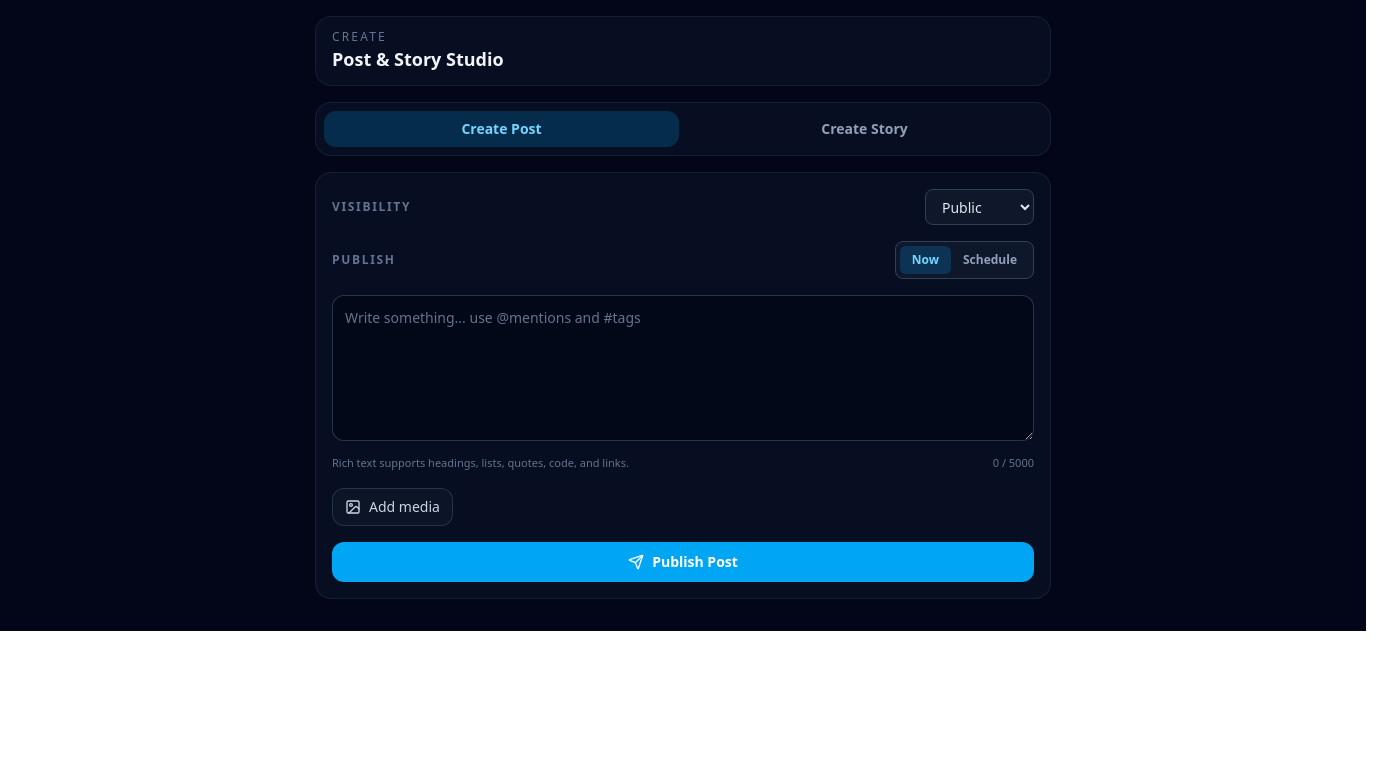
CreatePostPage › validates missing story media before sharing
Click the button "Create Story": x=864, y=129 [687,111,1042,147]
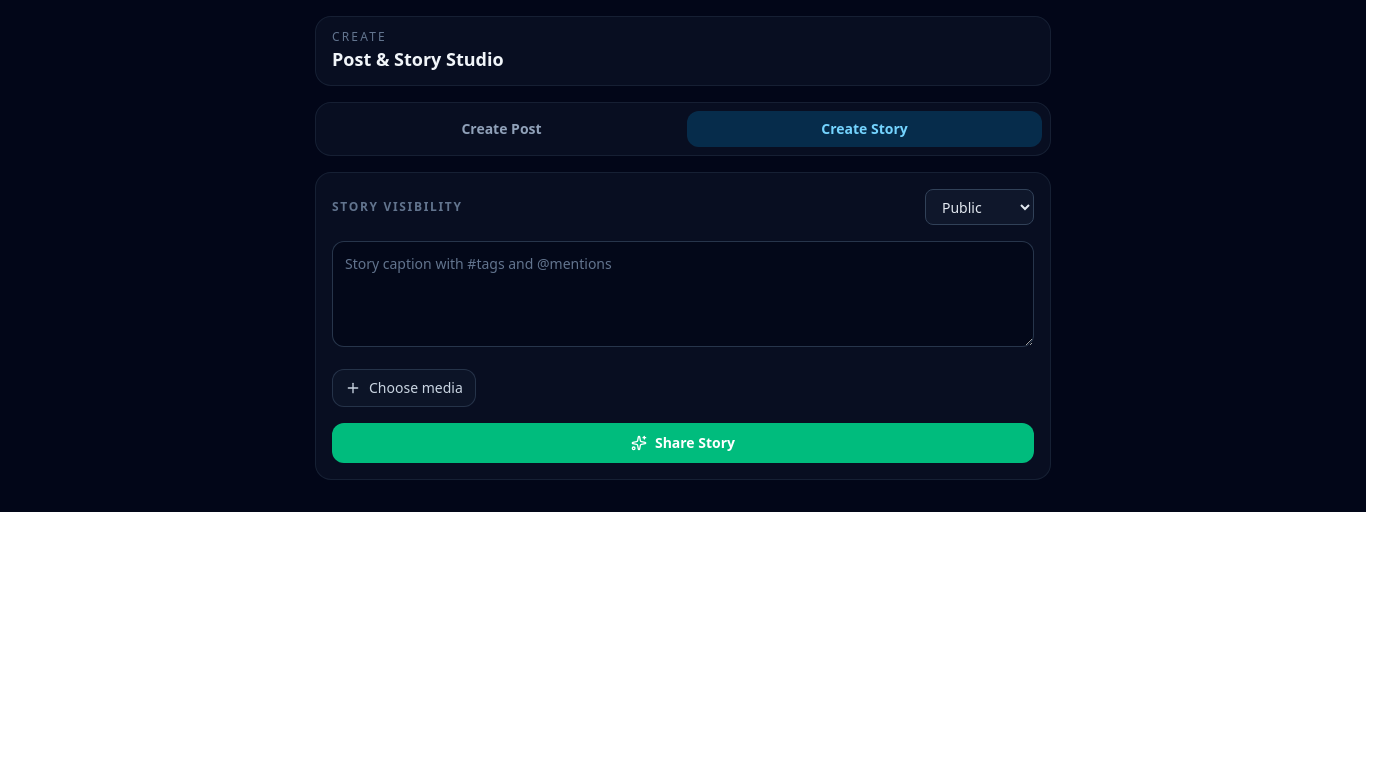
Click the button "Share Story": x=683, y=443 [332,423,1034,463]
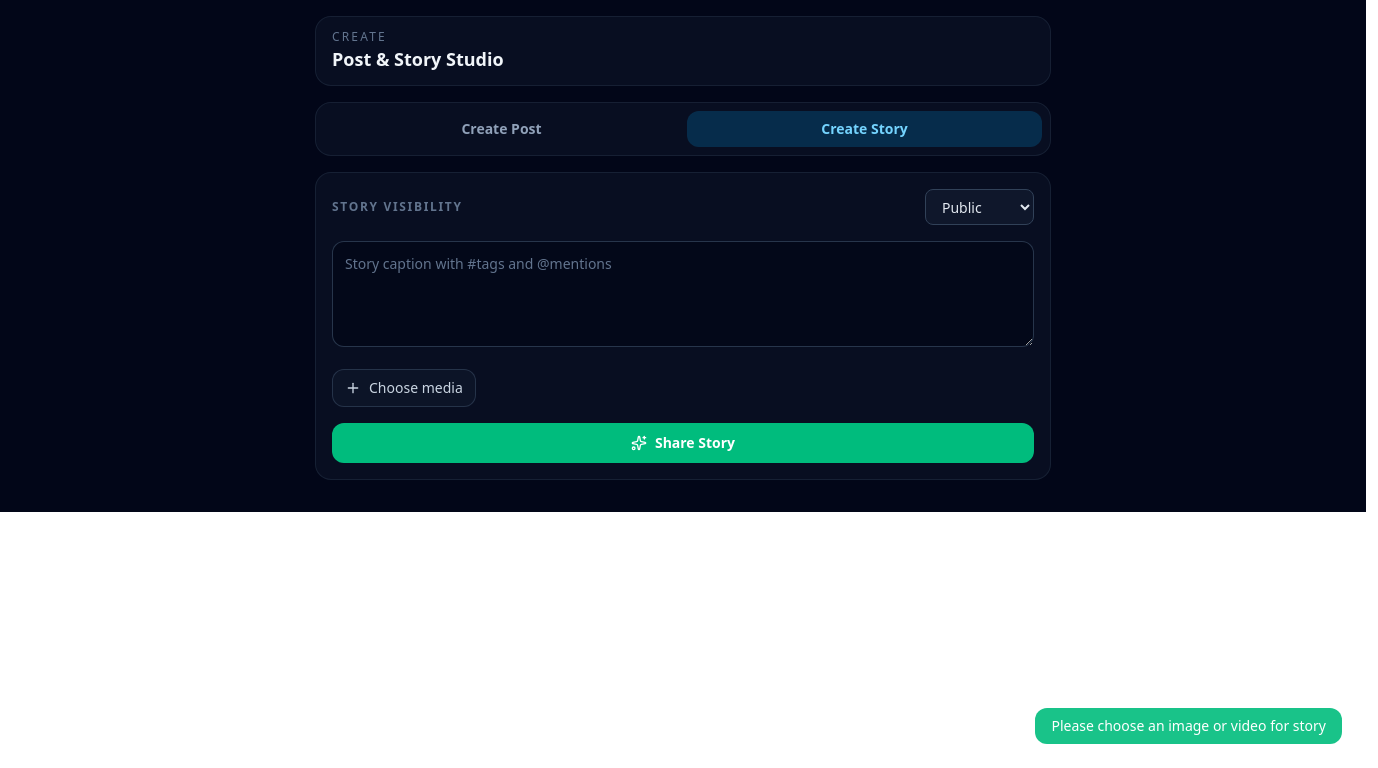
Expected: the text "Please choose an image or video for story" is shown, [1035,708,1342,744]
